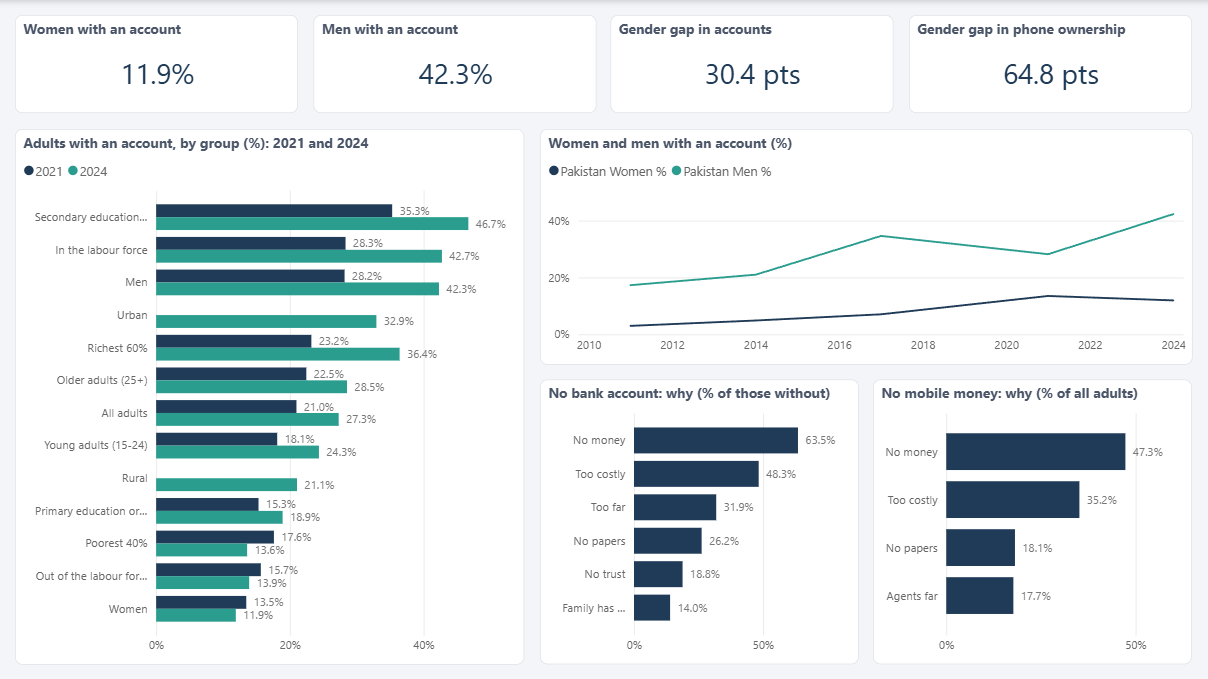

This screenshot's page, from the dashboard's own definition file:
{"tool":"powerbi","page":{"name":"Who is left out","canvas":[1280,720],"ordinal":1},"visuals":[{"type":"card","title":"Women with an account","fields":{"Values":["_Measures.Pakistan Women %"]},"box":[16,16,300,104],"z":0},{"type":"card","title":"Men with an account","fields":{"Values":["_Measures.Pakistan Men %"]},"box":[332,16,300,104],"z":1000},{"type":"card","title":"Gender gap in accounts","fields":{"Values":["_Measures.Account Gender Gap (pts)"]},"box":[648,16,300,104],"z":2000},{"type":"card","title":"Gender gap in phone ownership","fields":{"Values":["_Measures.Phone Gender Gap (pts)"]},"box":[964,16,300,104],"z":3000},{"type":"clusteredBarChart","title":"Adults with an account, by group (%): 2021 and 2024","fields":{"Category":["segments.segment"],"Y":["_Measures.Segment Account Ownership %"],"Series":["segments.year"]},"box":[16,136,540,568],"z":4000},{"type":"lineChart","title":"Women and men with an account (%)","fields":{"Category":["findex.year"],"Y":["_Measures.Pakistan Women %","_Measures.Pakistan Men %"]},"box":[572,136,692,250],"z":5000},{"type":"clusteredBarChart","title":"No bank account: why (% of those without)","fields":{"Category":["barriers.reason"],"Y":["_Measures.Bank Barrier Share %"]},"box":[572,402,338,302],"z":6000},{"type":"clusteredBarChart","title":"No mobile money: why (% of all adults)","fields":{"Category":["barriers.reason"],"Y":["_Measures.Mobile Money Barrier Share %"]},"box":[926,402,338,302],"z":7000}]}

Visuals, with their boxes in screenshot pixels (x1, y1, x2, y2), scaled from the page's 1280x720 canvas onto the 1208x679 screenshot:
"Women with an account" card: l=15, t=15, r=298, b=113
"Men with an account" card: l=313, t=15, r=596, b=113
"Gender gap in accounts" card: l=612, t=15, r=895, b=113
"Gender gap in phone ownership" card: l=910, t=15, r=1193, b=113
"Adults with an account, by group (%): 2021 and 2024" clusteredBarChart: l=15, t=128, r=525, b=664
"Women and men with an account (%)" lineChart: l=540, t=128, r=1193, b=364
"No bank account: why (% of those without)" clusteredBarChart: l=540, t=379, r=859, b=664
"No mobile money: why (% of all adults)" clusteredBarChart: l=874, t=379, r=1193, b=664
